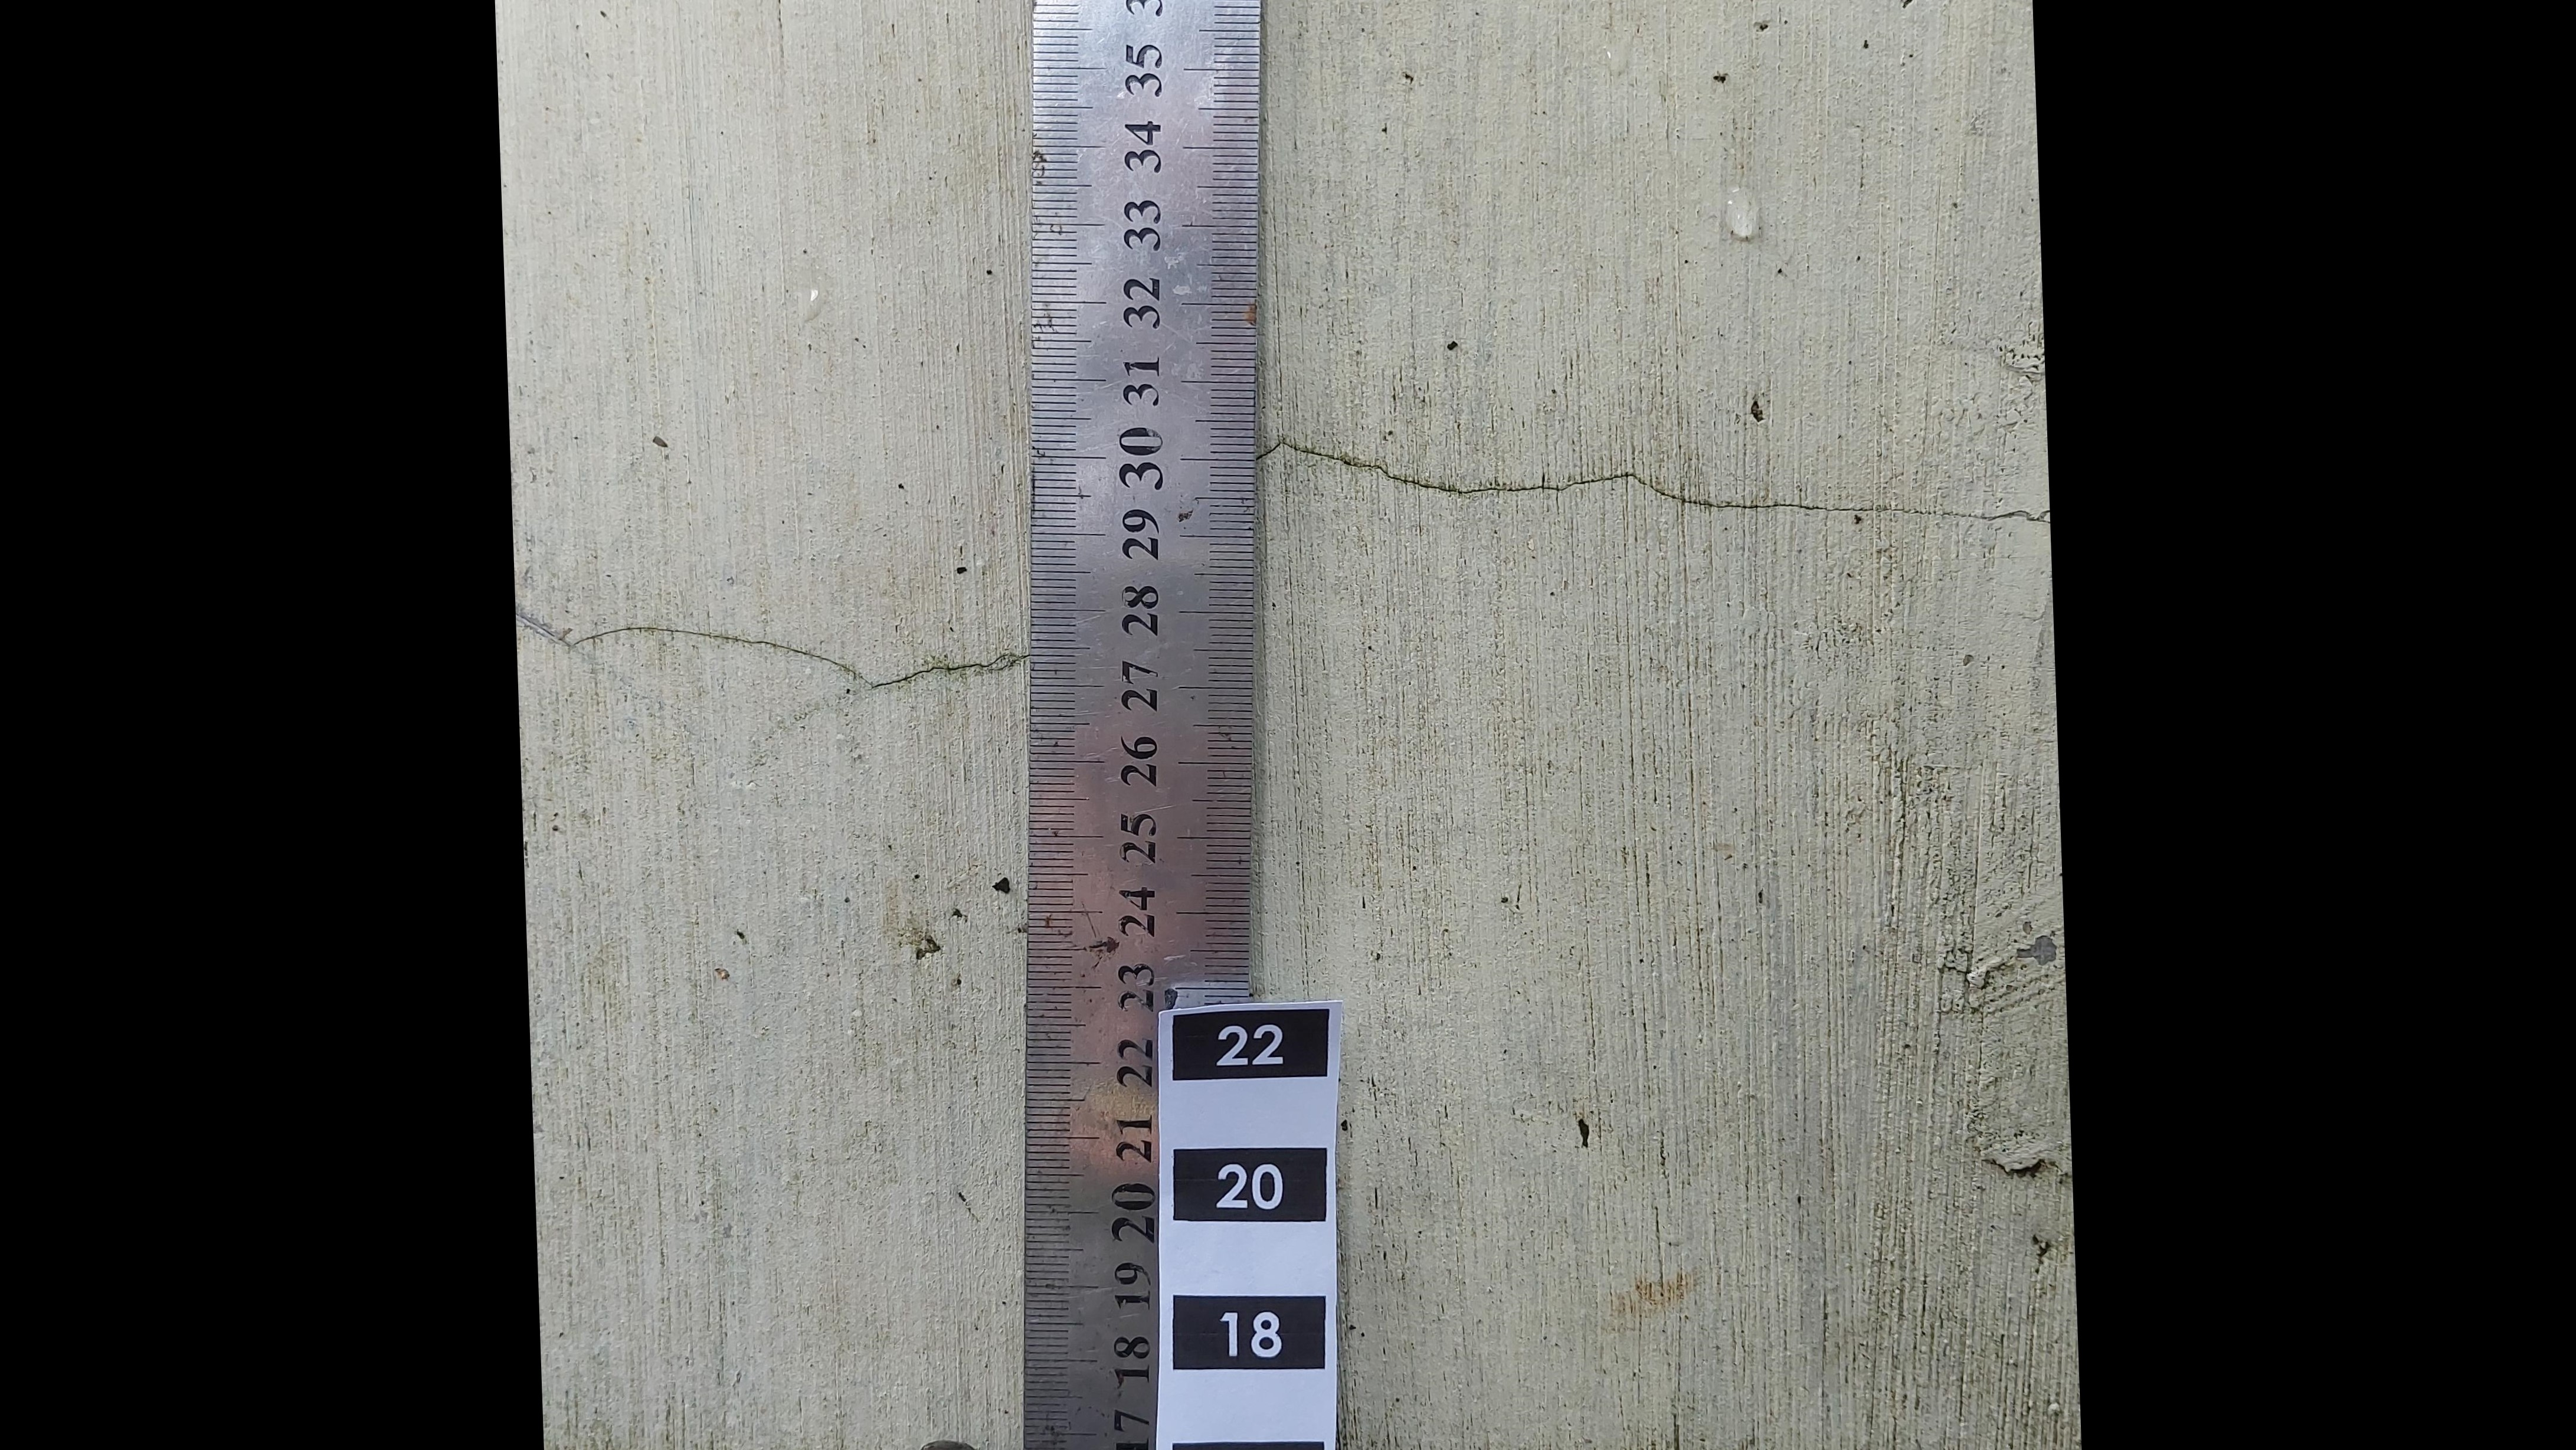kotak_2x1: (1173, 1294, 1323, 1374), (1175, 1011, 1334, 1084), (1175, 1146, 1322, 1222)
